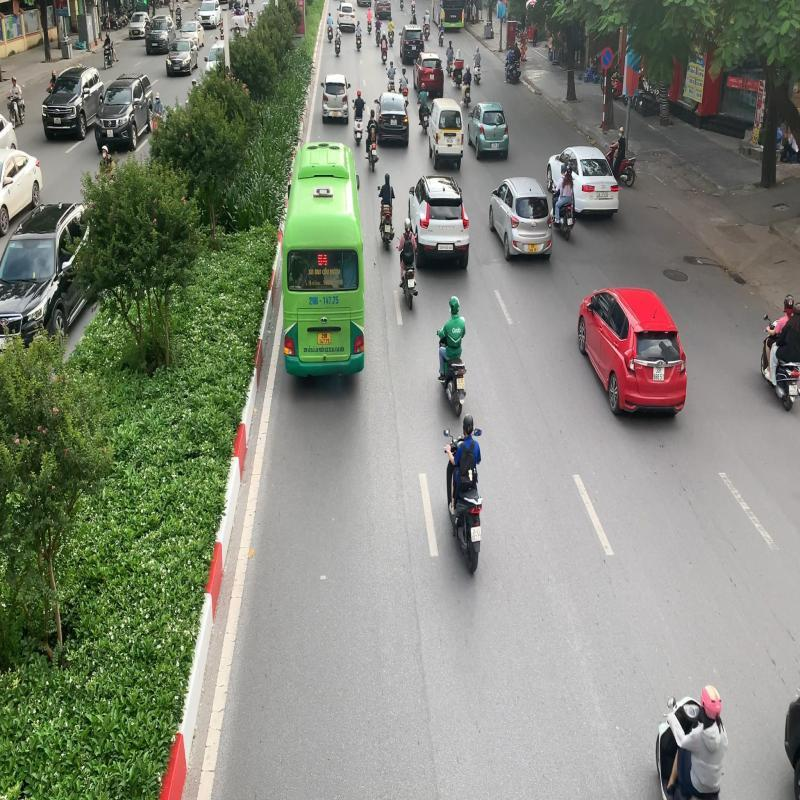helmet: (461, 413, 474, 436)
licenseplate: (469, 524, 482, 542)
motorcyclist: (442, 410, 484, 576)
